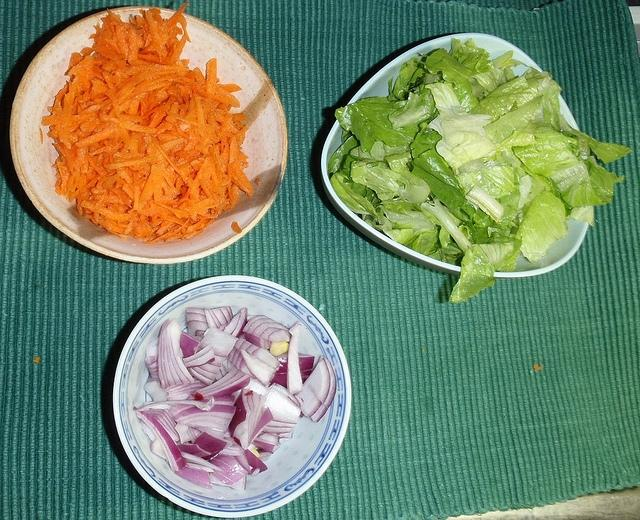carrot: (153, 136, 187, 184), (188, 157, 217, 202), (166, 116, 190, 138), (119, 121, 157, 133), (152, 120, 173, 137)
onion: (134, 406, 188, 470), (211, 338, 280, 385), (187, 326, 238, 386), (294, 356, 337, 422), (158, 318, 195, 390), (172, 404, 236, 434), (192, 368, 250, 400), (169, 396, 235, 418), (241, 349, 278, 387), (229, 388, 251, 450), (208, 454, 248, 486), (286, 321, 302, 395), (193, 431, 231, 460), (266, 387, 300, 418), (218, 307, 248, 338), (180, 451, 224, 472), (204, 306, 233, 329), (242, 315, 270, 332), (266, 420, 296, 428), (248, 444, 260, 458), (186, 308, 206, 316), (249, 466, 260, 476)
